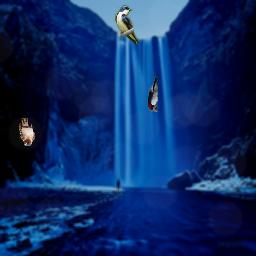Swallow: (115, 5, 139, 45), (19, 118, 35, 146)
Woodpecker: (148, 72, 158, 112)
